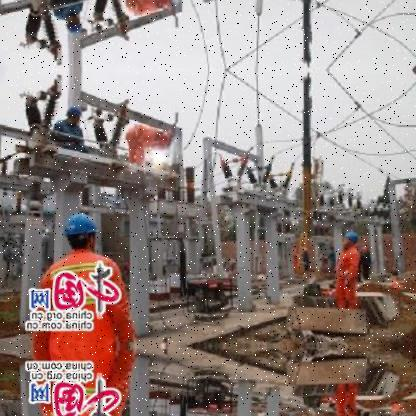helmet: (64, 208, 100, 250), (66, 102, 86, 122), (66, 14, 86, 34), (341, 228, 361, 246)
